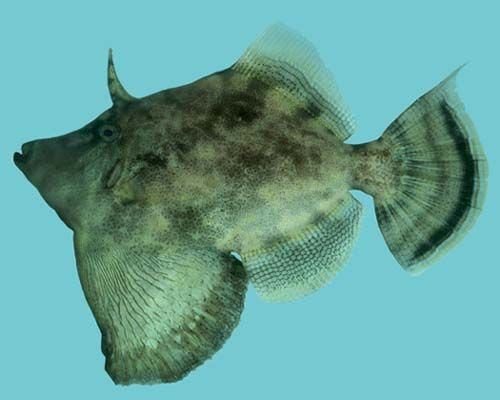fish: (13, 21, 489, 388)
